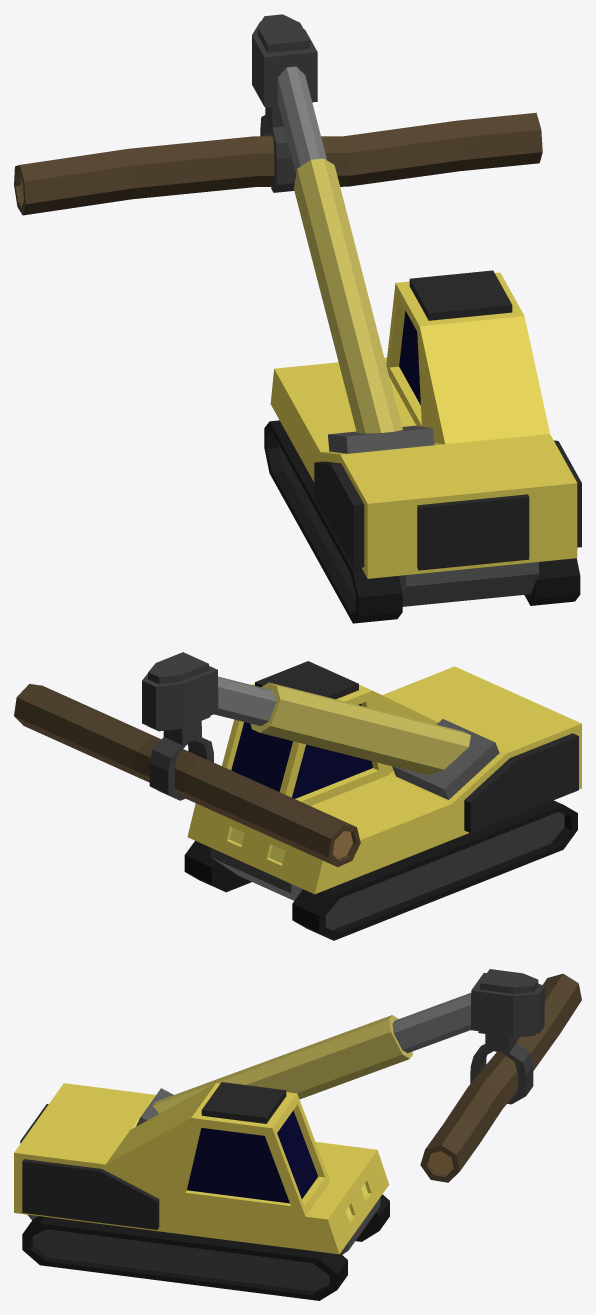
Rendered from excavator.fbx.
3 renders of one model, top to bottom at view 1: azimuth 30°, elevation 25°; view 2: azimuth 150°, elevation 25°; view 3: azimuth 270°, elevation 25°, orthographic. The views are drawn at different scales.
Visible parts, largest first — view 1: excavator; view 2: excavator; view 3: excavator.
Boxes of the visible parts, <box> form: excavator: <box>14,14,581,623</box>; excavator: <box>14,652,581,940</box>; excavator: <box>14,969,581,1300</box>.
Bounding box in the file's own units: 748 × 563 × 1014.
